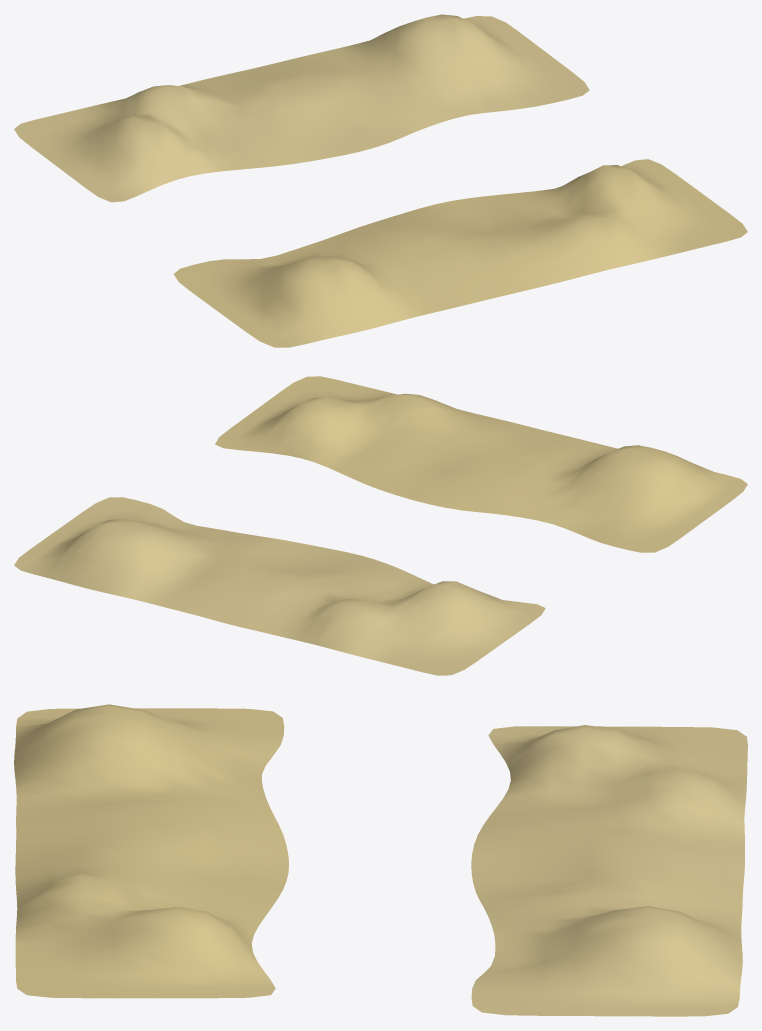
The model's file is pulau.fbx.
3 views of the same model, one above another, from view 1: azimuth 30°, elevation 25°; view 2: azimuth 150°, elevation 25°; view 3: azimuth 270°, elevation 25° (orthographic). The views are drawn at different scales.
Visible parts, largest first — view 1: Plane.004, Plane.003; view 2: Plane.003, Plane.004; view 3: Plane.003, Plane.004.
Boxes of the visible parts, box(x1,y1,x2,y2) form: Plane.004: box(14, 14, 589, 202); Plane.003: box(173, 159, 747, 347); Plane.003: box(215, 376, 747, 552); Plane.004: box(14, 497, 545, 675); Plane.003: box(14, 704, 288, 998); Plane.004: box(471, 725, 747, 1016).
Size of the model in its own units: 68300 by 5387 by 68978.
